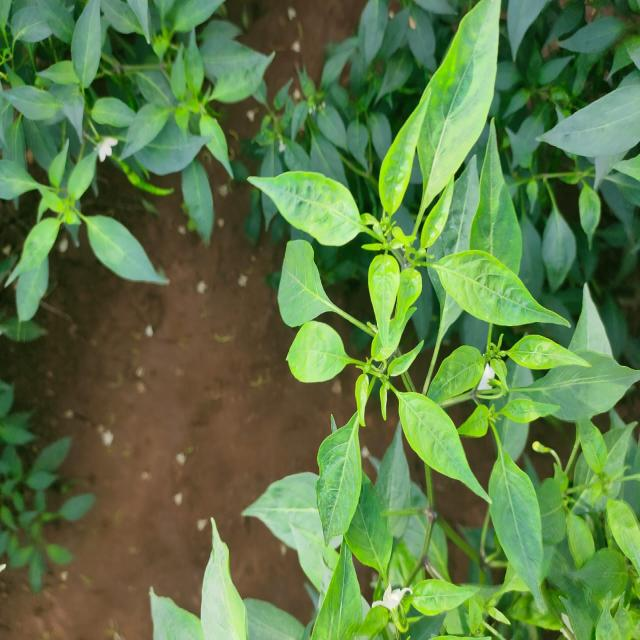Mosaic_virus: (272, 1, 639, 640), (0, 0, 264, 348), (132, 515, 288, 640)
